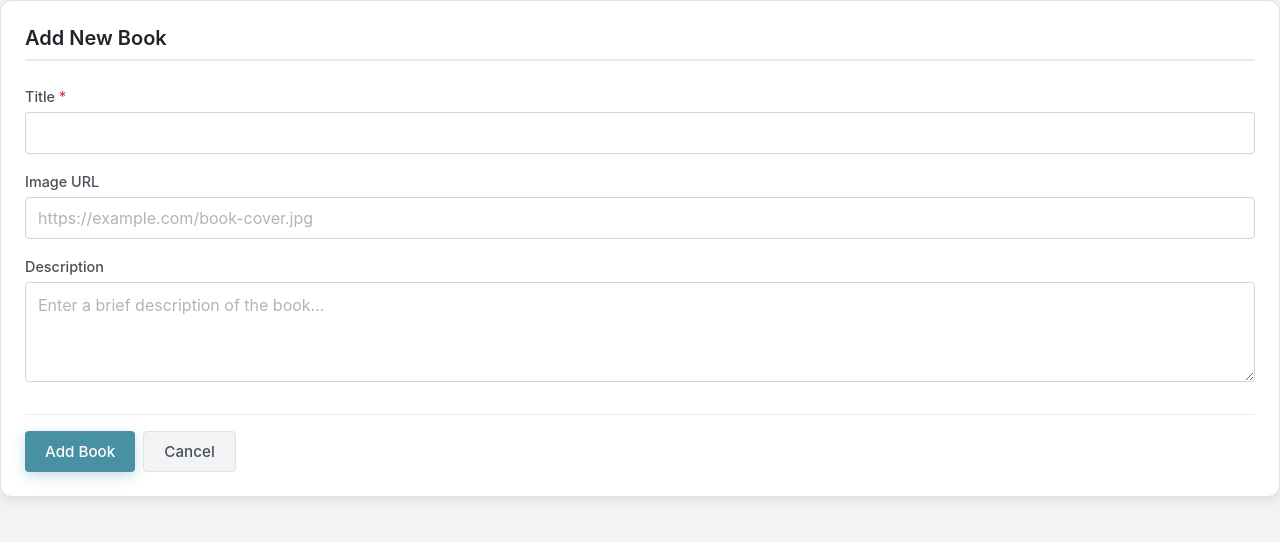
Test case: BookForm › shows error when submitting empty title
Click the button "Add Book" at (80, 451), box x1=25 y1=431 x2=135 y2=472
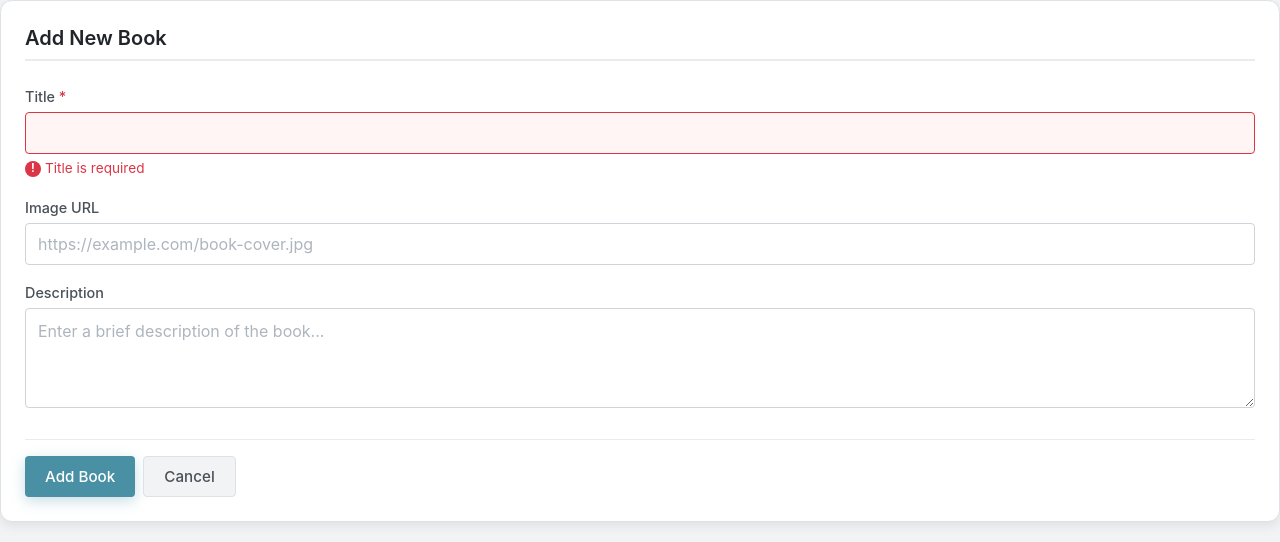
Check: the message reads "Title is required", box x1=45 y1=160 x2=144 y2=176
